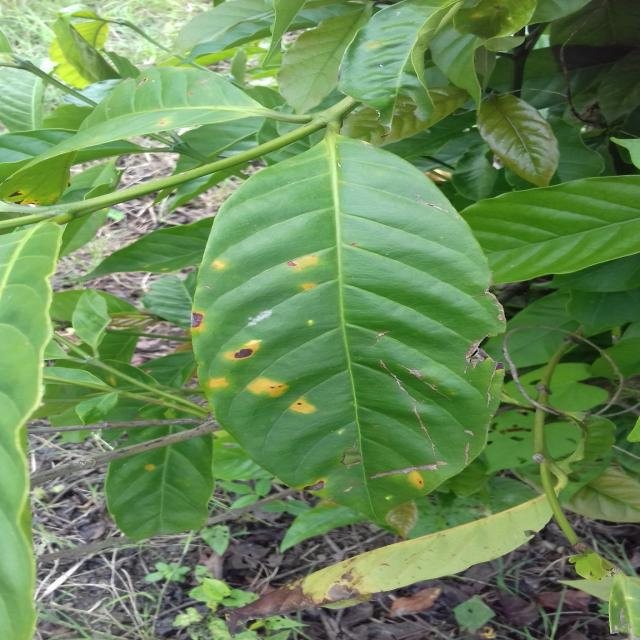Enfermedad-Roya: (191, 129, 506, 535)
